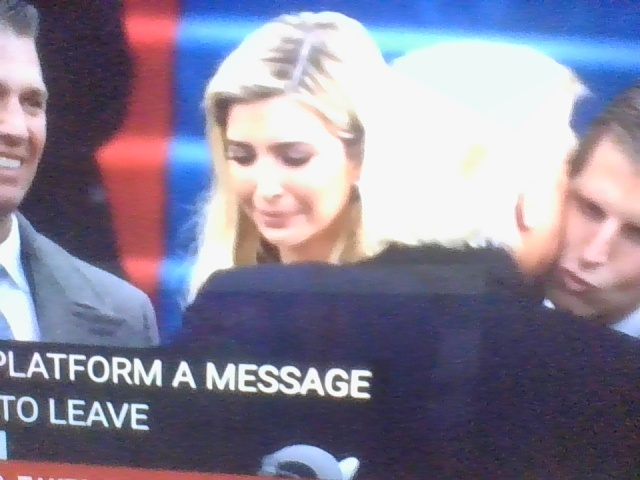fake: (210, 36, 370, 263)
